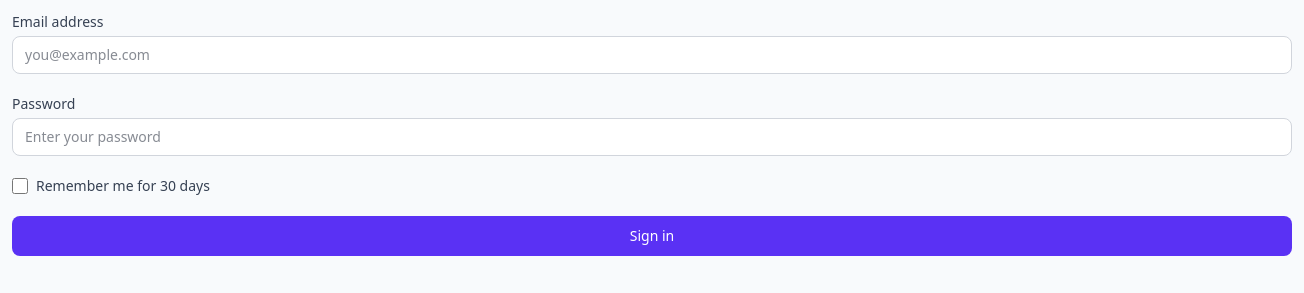
Scenario: LoginForm › shows email validation error on blur with invalid email
The width and height of the screenshot is (1304, 293).
Type "notvalid" into the field labelled "Email address" at (652, 55), box left=12, top=36, right=1292, bottom=74
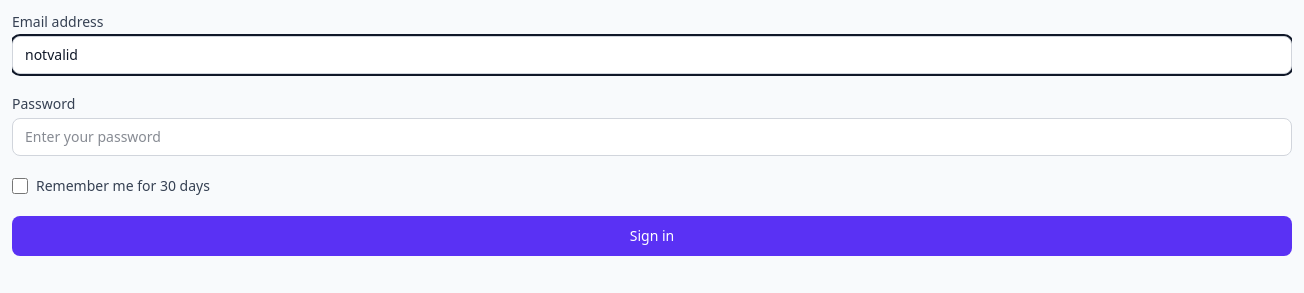
Leave the field labelled "Email address", box left=12, top=36, right=1292, bottom=74
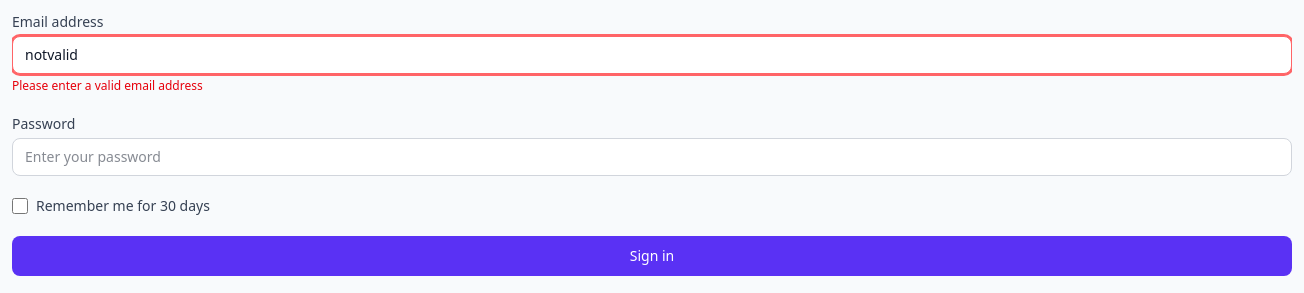
expect the text "Please enter a valid email address" is shown: met, box left=12, top=77, right=203, bottom=94
